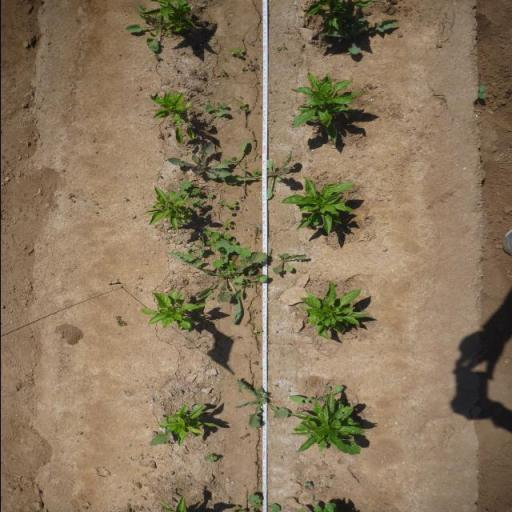plant: (290, 70, 373, 145), (285, 395, 369, 459), (296, 280, 373, 340), (281, 176, 355, 238), (137, 287, 206, 336), (147, 92, 197, 144), (141, 184, 194, 233), (159, 406, 216, 444), (302, 0, 373, 28), (157, 0, 198, 34)
weed: (166, 249, 267, 326), (227, 140, 293, 198), (232, 378, 288, 429), (318, 24, 404, 53), (164, 142, 230, 179), (121, 1, 166, 53), (287, 383, 344, 406), (210, 246, 252, 275), (172, 178, 215, 206), (267, 249, 308, 275), (228, 493, 281, 512), (201, 226, 236, 248), (234, 274, 266, 298), (203, 100, 228, 116), (217, 200, 238, 214), (186, 243, 208, 256), (112, 314, 128, 328), (475, 82, 487, 100), (229, 46, 245, 57), (247, 60, 260, 71), (203, 453, 217, 463), (236, 100, 248, 111), (220, 218, 232, 228), (276, 43, 286, 51), (252, 328, 262, 334), (210, 114, 220, 120), (153, 53, 161, 60), (304, 482, 313, 488), (219, 69, 226, 76), (242, 432, 250, 438), (251, 360, 259, 366), (326, 385, 332, 392), (234, 335, 242, 340), (238, 196, 244, 202), (240, 66, 248, 70), (178, 488, 182, 494), (251, 310, 257, 314), (238, 437, 245, 440), (324, 487, 328, 491), (250, 316, 255, 319), (314, 358, 319, 360), (244, 452, 249, 454)
